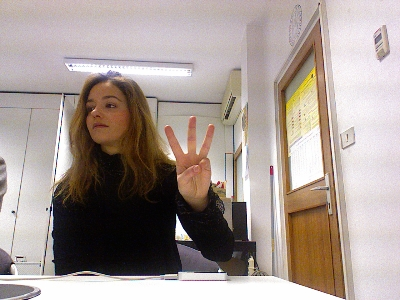三分: (163, 113, 215, 200)
